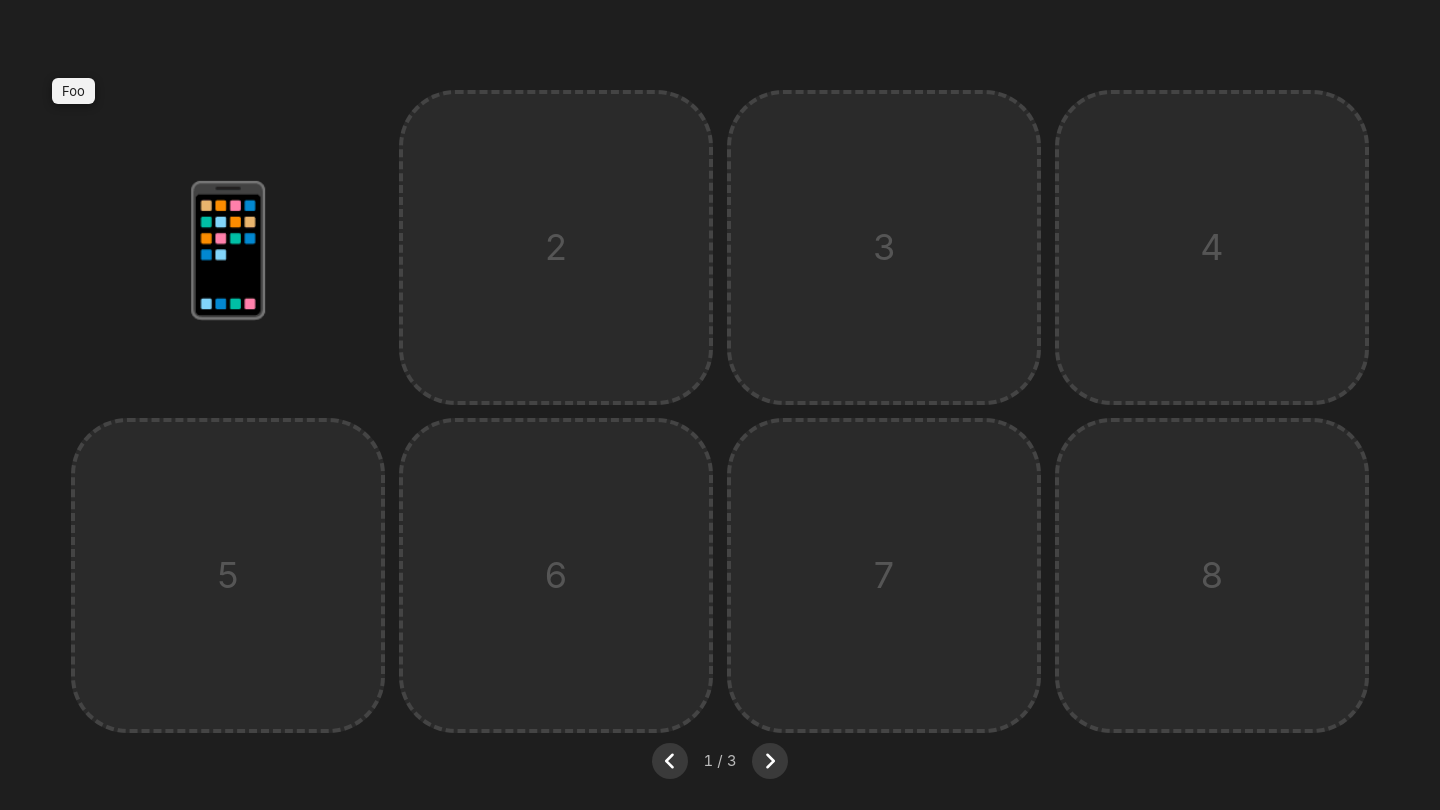
Scenario: App rename › opens a context menu with a rename item on a registered item and hides the tooltip
expect the text "1 / 3" is shown: met, box 704,751 -> 736,770
Right-click the button named "Foo".
right_click(228, 247)  # box 149,171 -> 307,323
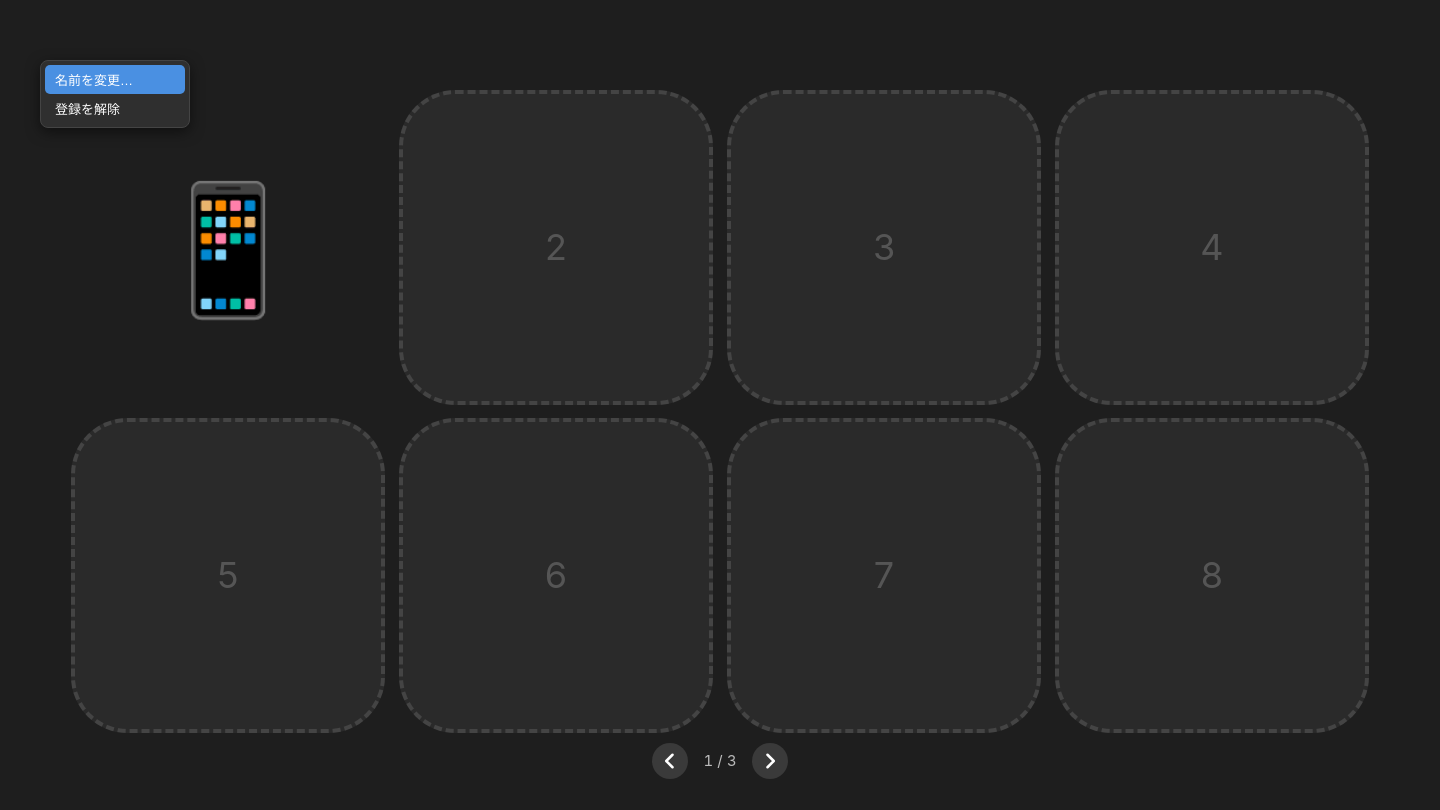
expect the menu is shown: met, box 40,60 -> 190,128
expect the menu item "名前を変更…" is shown: met, box 45,65 -> 185,94
expect the tooltip "Foo" is gone: met
